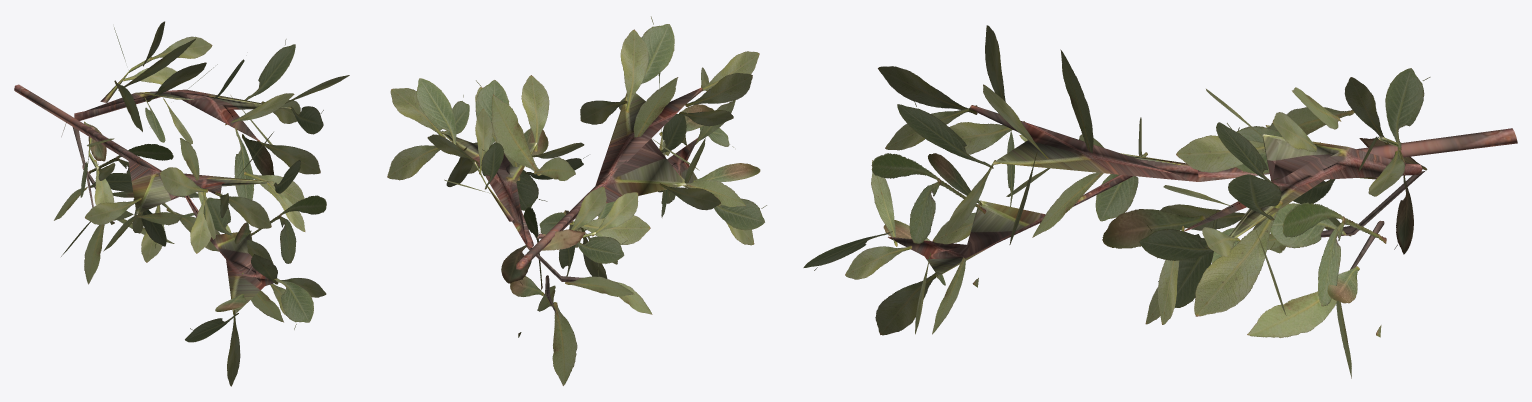
The model's file is shrub_a.glb.
3 views of the same model, side by side, from view 1: azimuth 30°, elevation 25°; view 2: azimuth 150°, elevation 25°; view 3: azimuth 270°, elevation 25° (orthographic). The views are drawn at different scales.
Parts seen in each view (by area): view 1: shrub_a; view 2: shrub_a; view 3: shrub_a.
Part boxes in pixels (x1,y1,x2,y2): shrub_a: [14, 21, 349, 386]; shrub_a: [387, 16, 766, 385]; shrub_a: [803, 25, 1517, 378].
Size of the model in its own units: 0.1074 by 0.0854 by 0.1544.
1 material, 1 textured.
